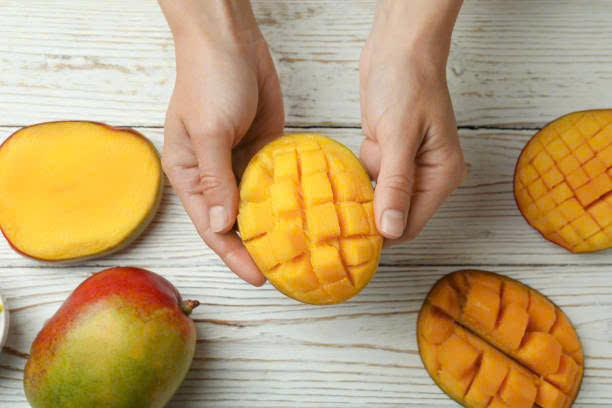mango: (234, 130, 388, 308), (406, 263, 589, 408), (22, 263, 193, 408), (1, 116, 169, 256), (507, 106, 612, 260)
